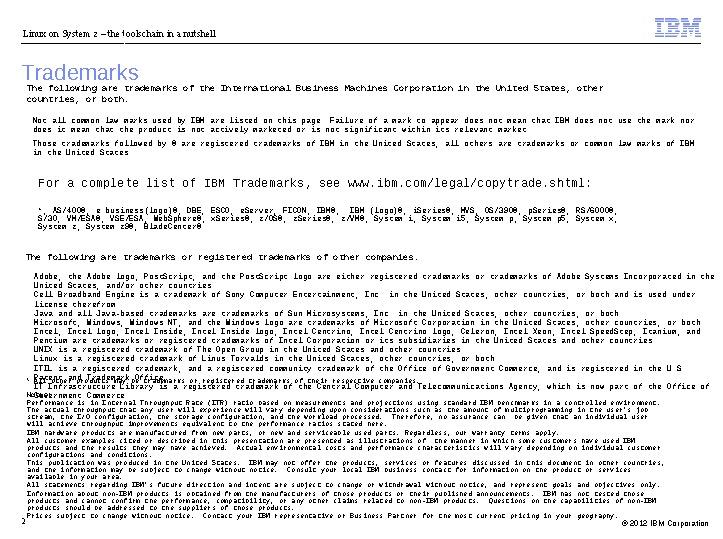paragraph: (11, 77, 723, 532)
subtitle: (17, 58, 153, 81)
title: (17, 24, 227, 41)
